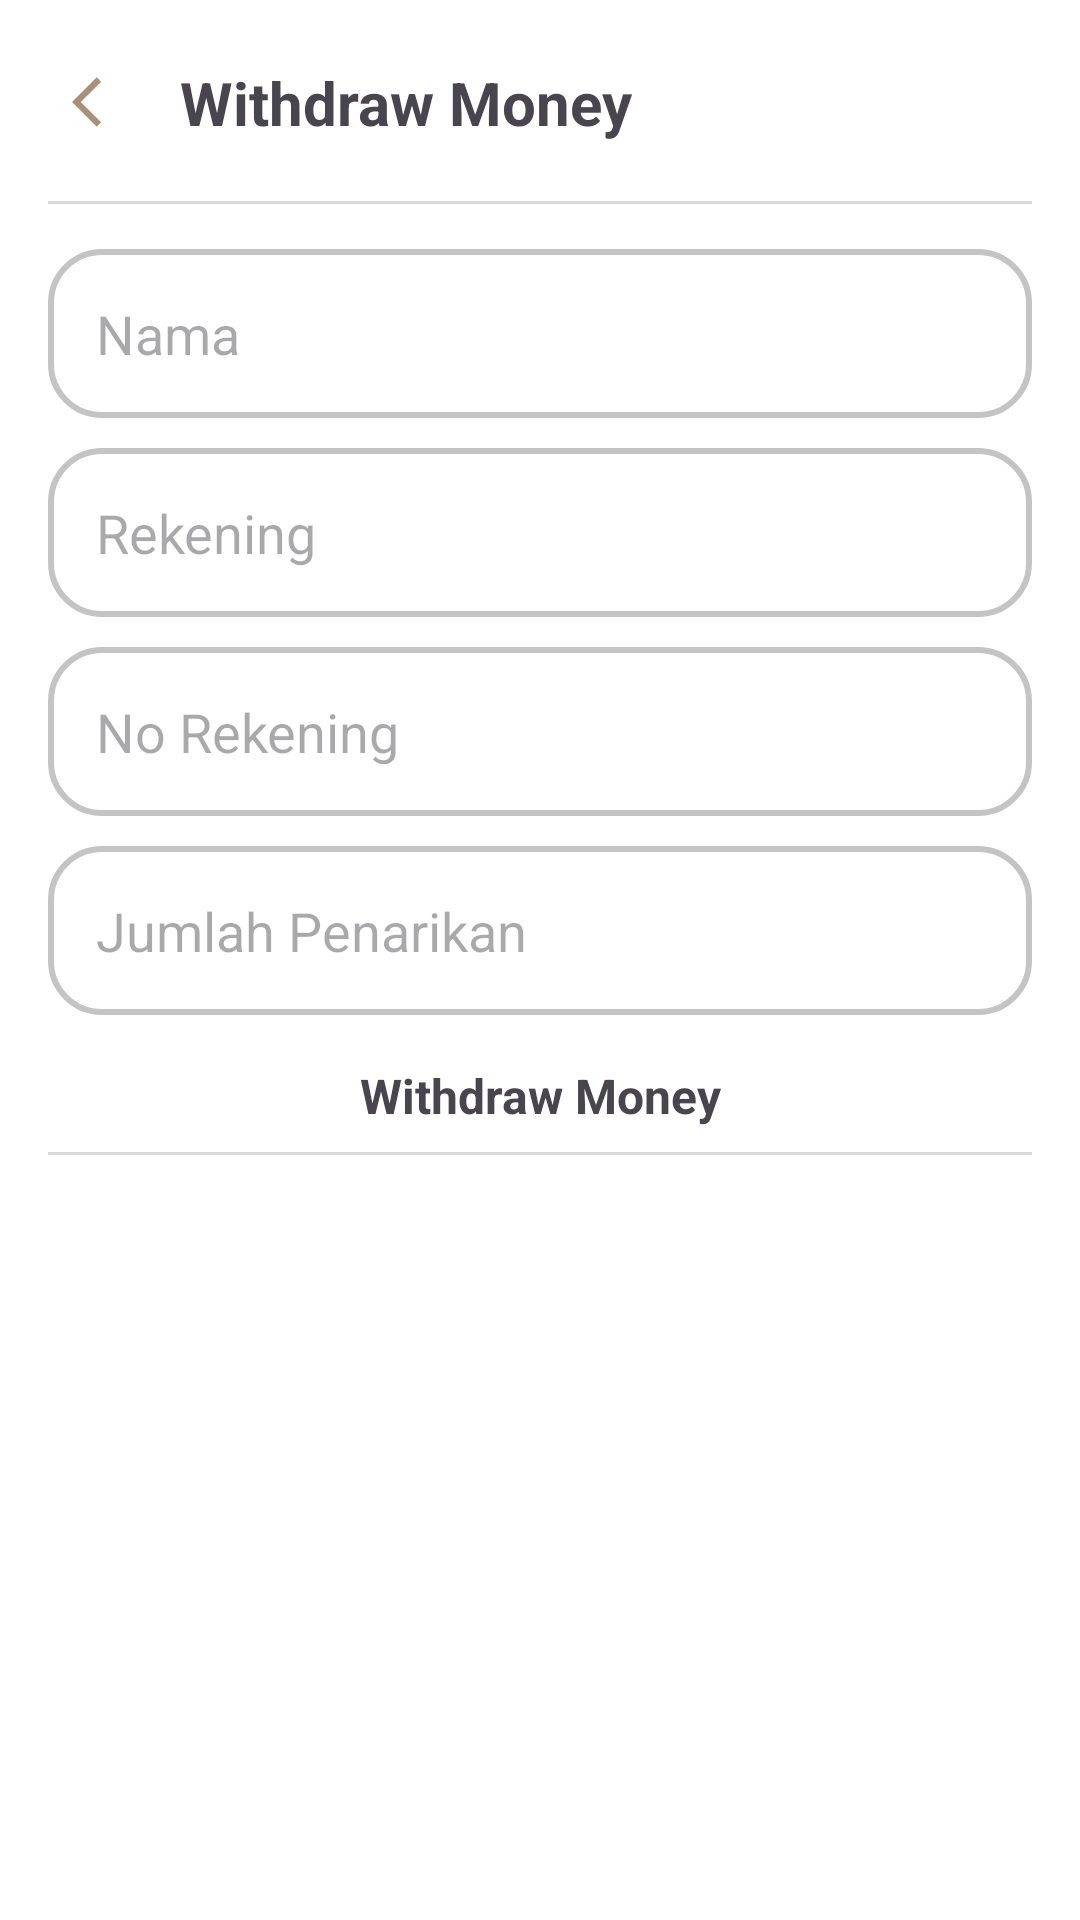

Named icons in this screenshot (1080w x 1920h) and their bounding boxes, [x1,y1,x2,y2]:
arrow back: [72,77,101,127]
